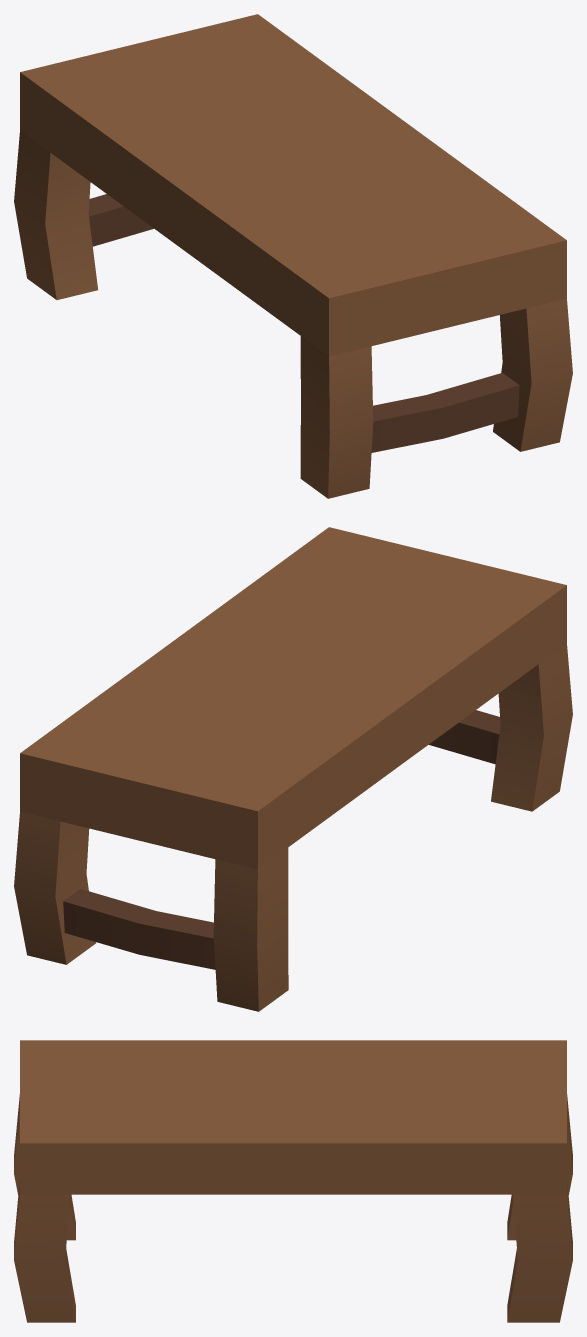
The model's file is tafel.fbx.
3 views of the same model, one above another, from view 1: azimuth 30°, elevation 25°; view 2: azimuth 150°, elevation 25°; view 3: azimuth 270°, elevation 25° (orthographic). The views are drawn at different scales.
Visible parts, largest first — view 1: tafel; view 2: tafel; view 3: tafel.
Boxes of the visible parts, x1,y1,x2,y2 form: tafel: [14, 14, 572, 498]; tafel: [14, 527, 572, 1011]; tafel: [14, 1040, 572, 1322].
Bounding box in the file's own units: 0.8177 × 0.6563 × 1.84.
